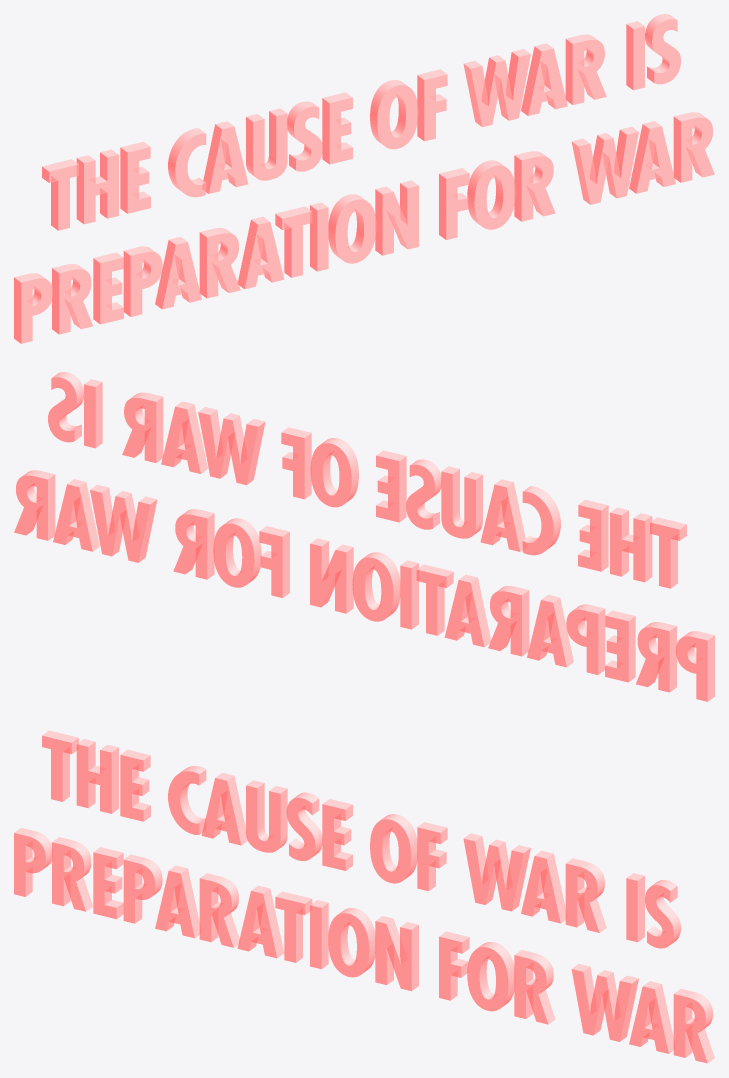
3 renders of one model, top to bottom at view 1: azimuth 30°, elevation 25°; view 2: azimuth 150°, elevation 25°; view 3: azimuth 330°, elevation 25°, orthographic.
Visible parts, largest first — view 1: typeMesh1; view 2: typeMesh1; view 3: typeMesh1.
Part boxes in pixels (x1,y1,x2,y2): typeMesh1: (14, 14, 714, 343); typeMesh1: (14, 372, 714, 701); typeMesh1: (14, 730, 714, 1063).
Bounding box in the file's own units: 20.91 × 4.82 × 0.3746.
